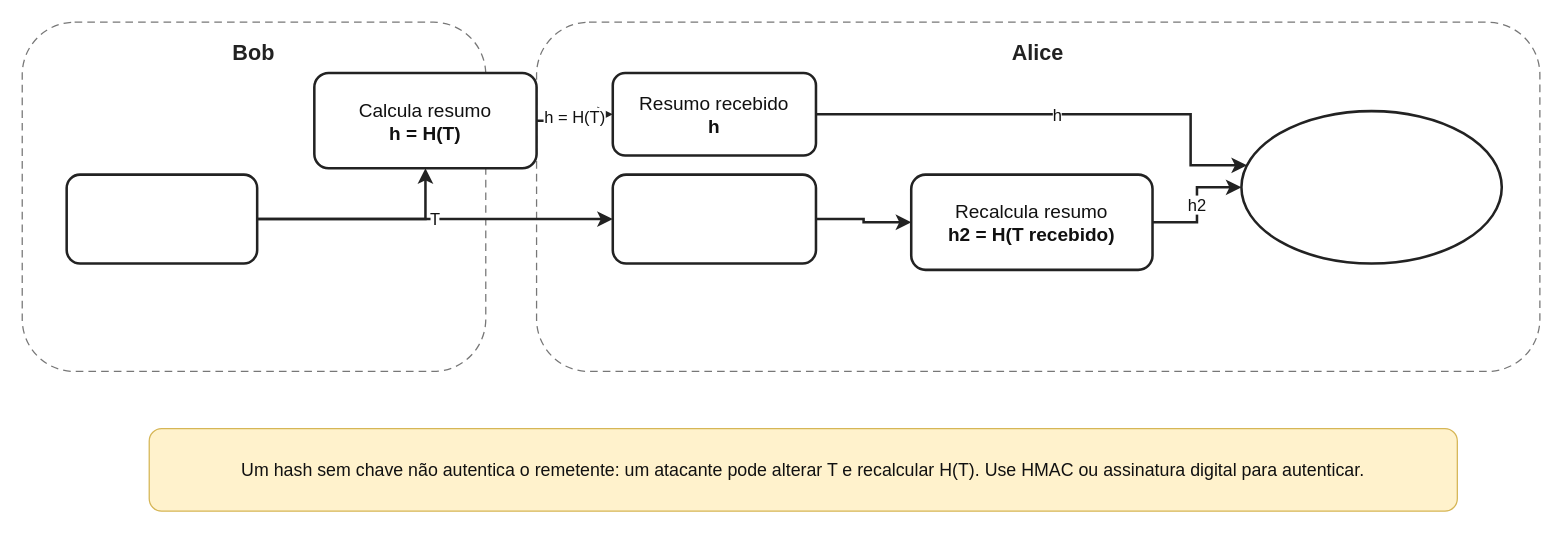
Some shapes in this 1562 by 533 pixel diagram are drawn without their labels. Each missing label, with the centre of its shape:
Compara h = h2? Igual: coincide Diferente: divergência: [1371,186]
Mensagem recebida T recebido: [714,218]
Mensagem T: [161,218]
